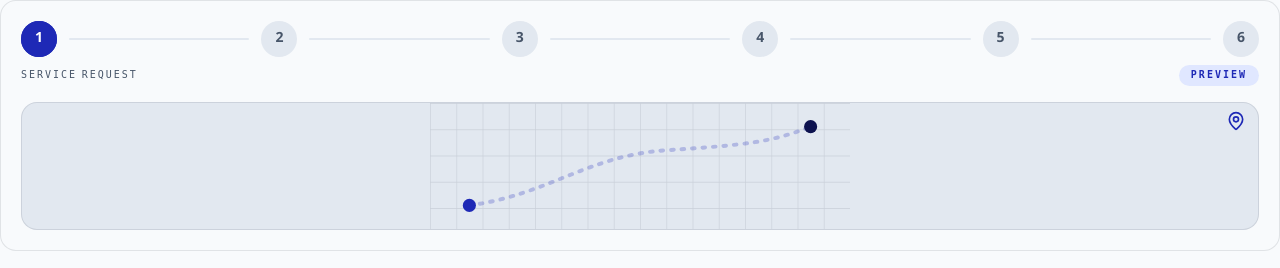
HeroStage › state 1 renders the DESIGN.md §5 content
Click the button named "Show Searching state (step 2)".
click(279, 39)  # box x1=261 y1=21 x2=297 y2=57
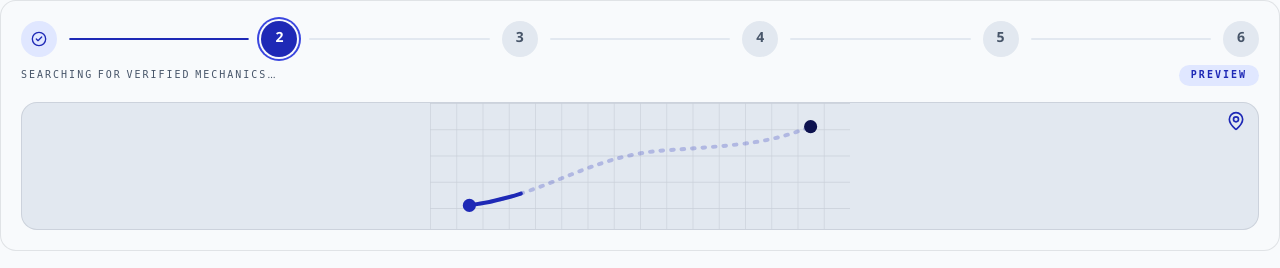
Check: the text "Searching for verified mechanics…" is shown, box x1=21 y1=68 x2=277 y2=83
